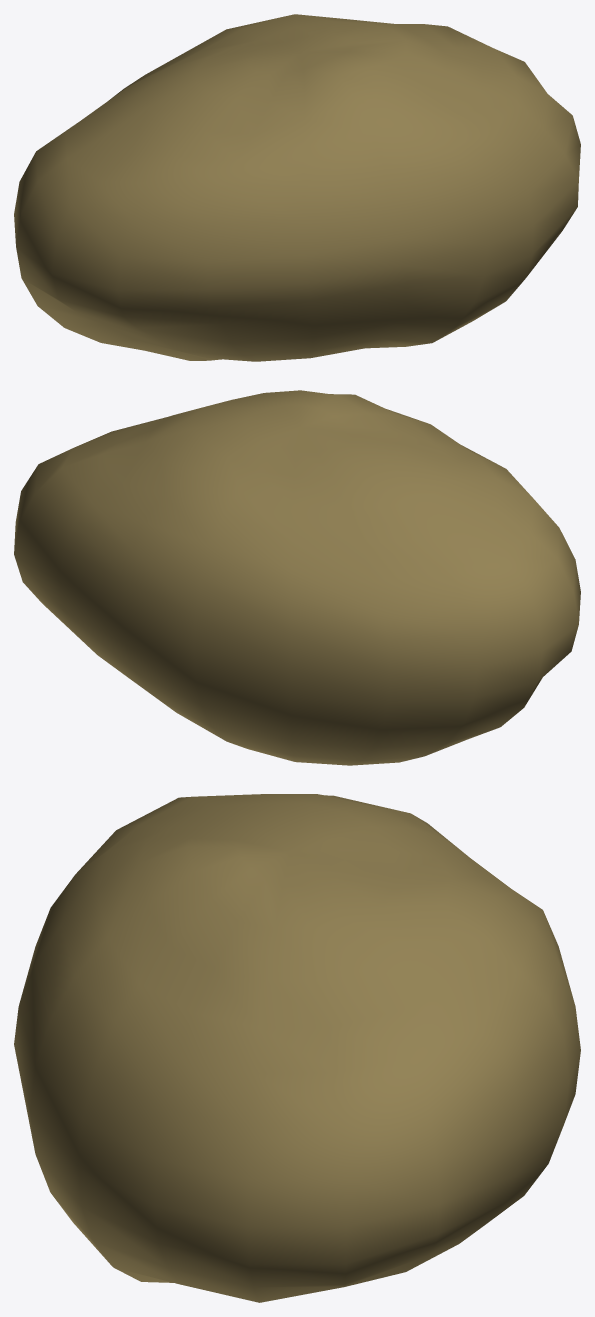
File: BatataColeta.fbx
3 views of the same model, one above another, from view 1: azimuth 30°, elevation 25°; view 2: azimuth 150°, elevation 25°; view 3: azimuth 270°, elevation 25° (orthographic). The views are drawn at different scales.
Parts seen in each view (by area): view 1: BatataColeta; view 2: BatataColeta; view 3: BatataColeta.
Part boxes in pixels (bbox=[...]): BatataColeta: bbox=[14, 14, 580, 361]; BatataColeta: bbox=[14, 390, 580, 765]; BatataColeta: bbox=[14, 794, 580, 1302].
Bounding box in the file's own units: 9.39 × 5.05 × 6.39.
